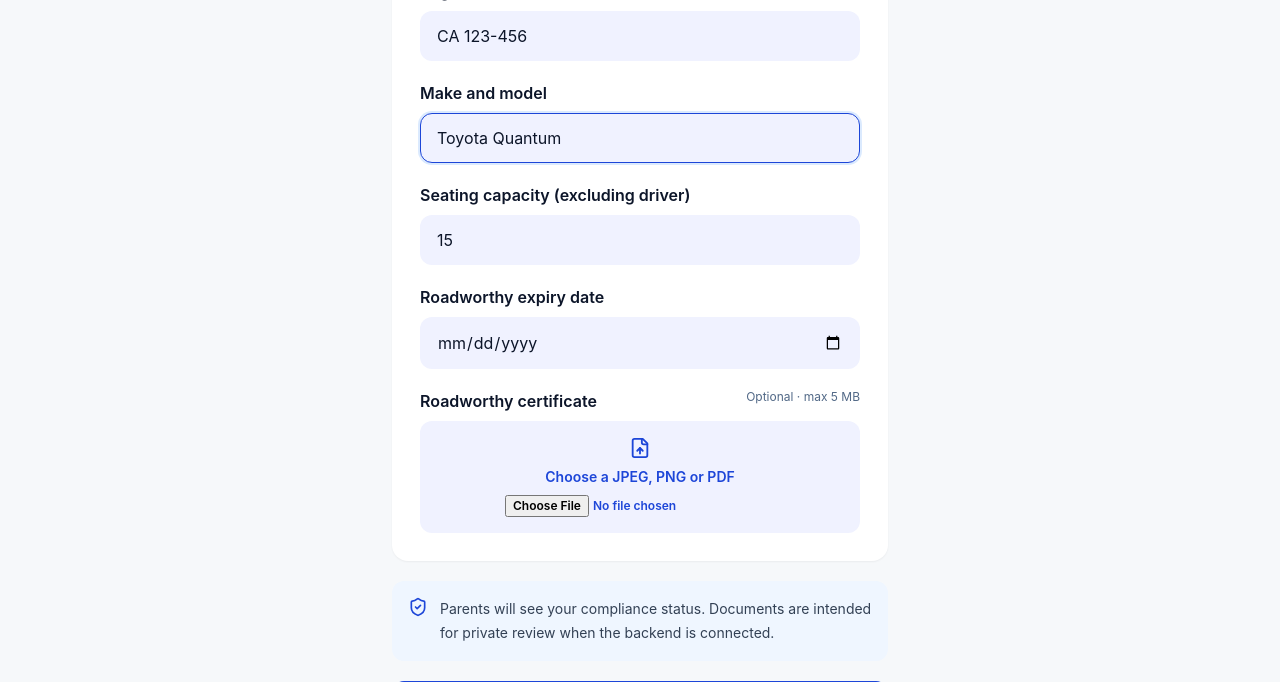
it: authentication › registers a valid driver profile and vehicle through the Supabase RPC
The width and height of the screenshot is (1280, 682).
Earlier steps of the test are not shown.
(page scrolled)
Type "2027-12-31" into the date field labelled "Roadworthy expiry date" at (640, 343), box [420,317,860,369]
(page scrolled)
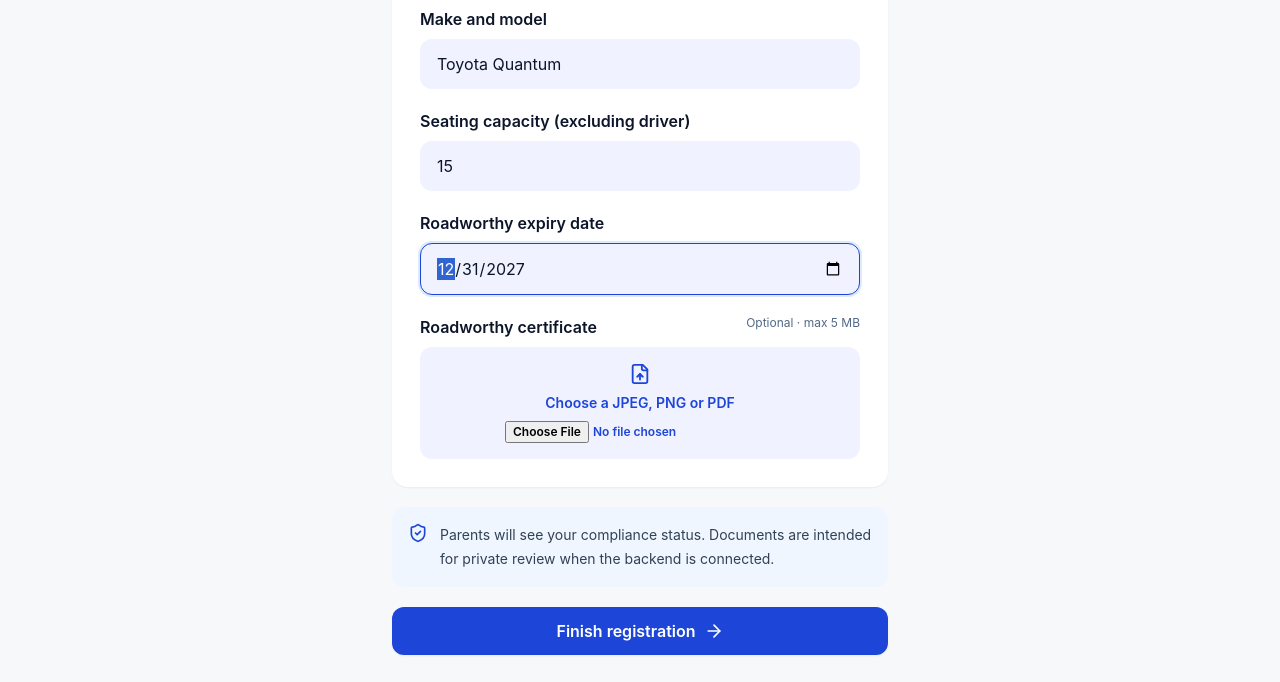
Click the button "Finish registration" at (640, 631), box [392,607,888,655]
(page scrolled)
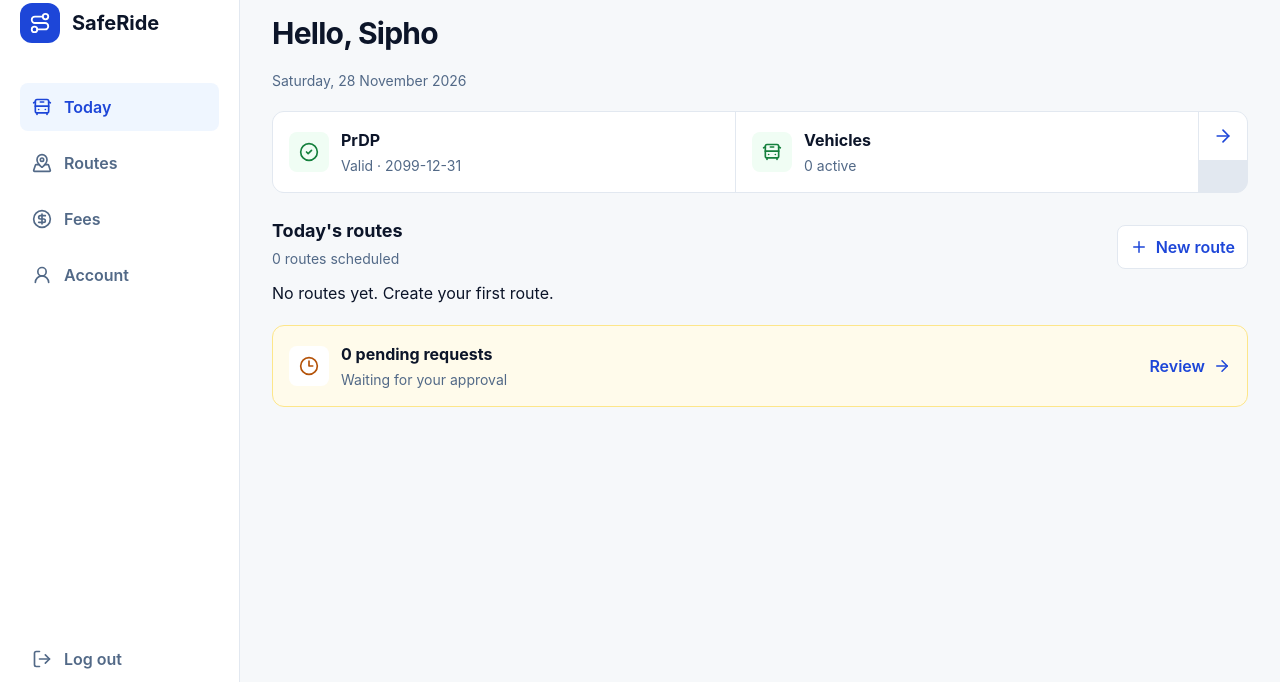
Check: the heading "Hello, Sipho" is shown, box [272,15,438,51]
